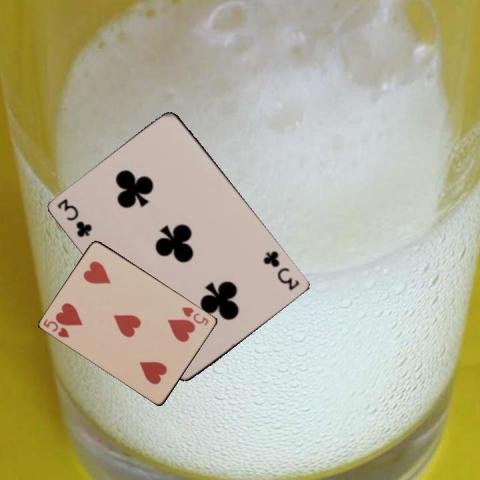3c: (261, 247, 301, 292), (55, 196, 94, 240)
5h: (40, 315, 71, 339), (178, 304, 210, 327)
